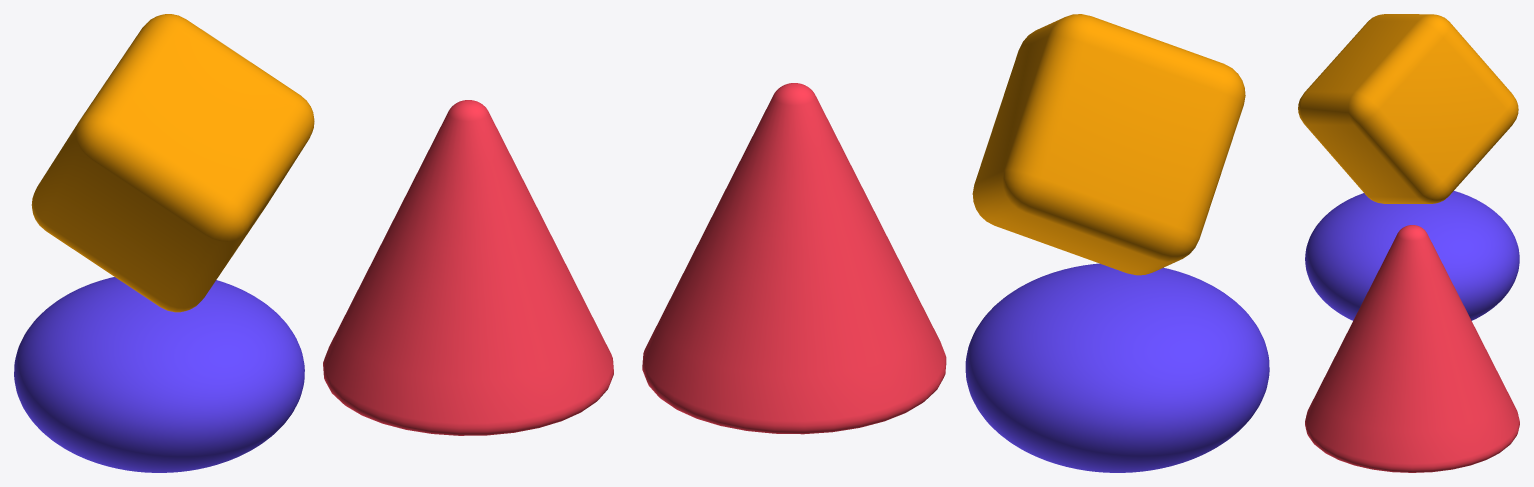
File: jumping-cube-loading-animated-3d-icon-1623938608941.glb
The picture shows the model from 3 angles, left to right: view 1: azimuth 30°, elevation 25°; view 2: azimuth 150°, elevation 25°; view 3: azimuth 270°, elevation 25°; orthographic projection. The views are drawn at different scales.
Visible parts, largest first — view 1: Cone, Cube, Sphere; view 2: Cone, Cube, Sphere; view 3: Cone, Cube, Sphere.
Boxes of the visible parts, bbox=[...] form: Cone: bbox=[323, 100, 613, 435]; Cube: bbox=[31, 14, 314, 312]; Sphere: bbox=[14, 277, 304, 472]; Cone: bbox=[642, 83, 946, 434]; Cube: bbox=[972, 14, 1245, 275]; Sphere: bbox=[965, 263, 1269, 472]; Cone: bbox=[1305, 225, 1519, 472]; Cube: bbox=[1298, 14, 1518, 203]; Sphere: bbox=[1305, 191, 1519, 320].
Size of the model in its own units: 1.7 by 1.22 by 0.7908.
